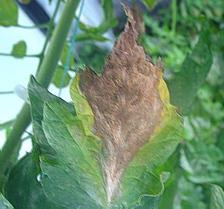Tomato mold leaf: (38, 2, 180, 205)
